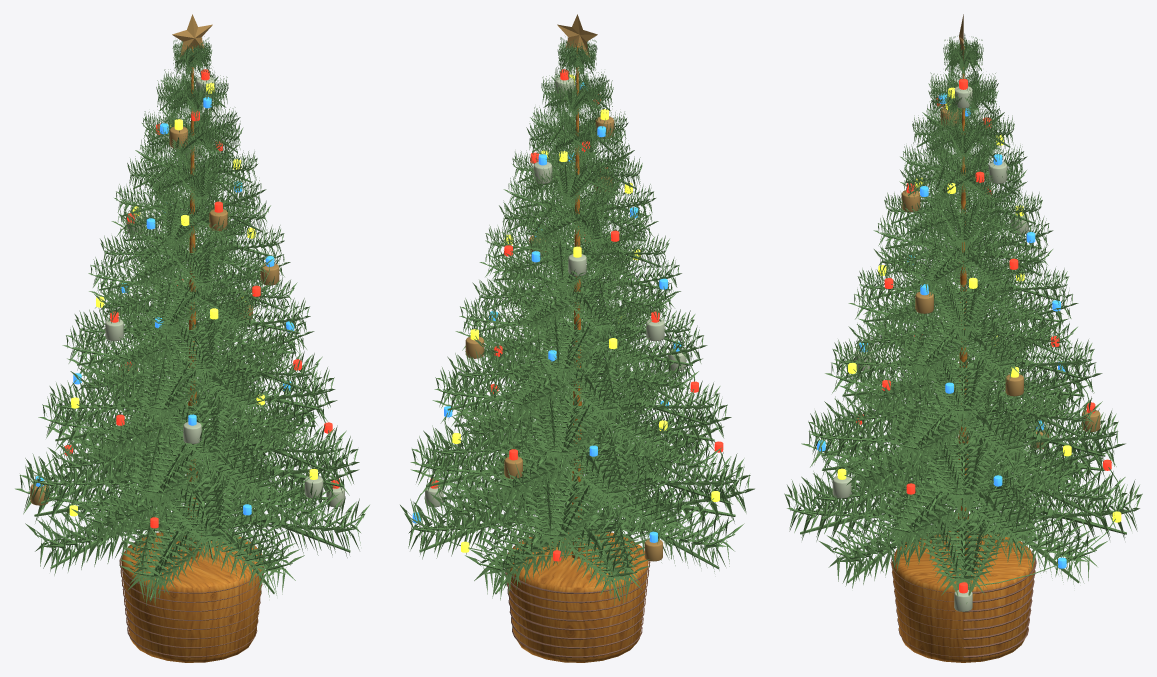
The model's file is christmas-slim-tree.glb.
The picture shows the model from 3 angles, left to right: view 1: azimuth 30°, elevation 25°; view 2: azimuth 150°, elevation 25°; view 3: azimuth 270°, elevation 25°; orthographic projection.
Parts seen in each view (by area): view 1: christmas-slim-tree, linked_bough_0_5, linked_bough_0_6, linked_bough_1_4, linked_bough_1_5, linked_bough_0_4, linked_bough_2_5, linked_bough_0_7, linked_bough_2_6, linked_bough_1_6, linked_bough_2_4, linked_bough_1_3 (+60 smaller); view 2: christmas-slim-tree, linked_bough_0_2, linked_bough_0_3, linked_bough_1_2, linked_bough_1_3, linked_bough_1_1, linked_bough_0_1, linked_bough_0_4, linked_bough_2_3, linked_bough_2_2, linked_bough_3_1, linked_bough_2_4 (+60 smaller); view 3: christmas-slim-tree, linked_bough_0_7, linked_bough_0_0, linked_bough_1_7, linked_bough_1_0, linked_bough_0_1, linked_bough_2_7, linked_bough_2_0, linked_bough_1_1, linked_bough_3_7, linked_bough_2_1, linked_bough_3_0 (+60 smaller).
Part boxes in pixels (bbox=[...]): christmas-slim-tree: bbox=[30, 14, 344, 662]; linked_bough_0_5: bbox=[119, 505, 237, 605]; linked_bough_0_6: bbox=[164, 497, 304, 597]; linked_bough_1_4: bbox=[71, 460, 210, 552]; linked_bough_1_5: bbox=[151, 468, 250, 563]; linked_bough_0_4: bbox=[25, 485, 185, 575]; linked_bough_2_5: bbox=[129, 426, 231, 517]; linked_bough_0_7: bbox=[208, 484, 369, 557]; linked_bough_2_6: bbox=[167, 421, 290, 512]; linked_bough_1_6: bbox=[191, 450, 338, 535]; linked_bough_2_4: bbox=[47, 413, 185, 492]; linked_bough_1_3: bbox=[25, 445, 187, 509]; christmas-slim-tree: bbox=[412, 14, 724, 662]; linked_bough_0_2: bbox=[465, 501, 605, 600]; linked_bough_0_3: bbox=[532, 503, 649, 605]; linked_bough_1_2: bbox=[523, 468, 625, 563]; linked_bough_1_3: bbox=[559, 453, 698, 549]; linked_bough_1_1: bbox=[431, 455, 578, 540]; linked_bough_0_1: bbox=[400, 483, 563, 559]; linked_bough_0_4: bbox=[585, 485, 744, 571]; linked_bough_2_3: bbox=[538, 428, 640, 516]; linked_bough_2_2: bbox=[479, 423, 602, 512]; linked_bough_3_1: bbox=[451, 381, 578, 455]; linked_bough_2_4: bbox=[584, 413, 722, 489]; christmas-slim-tree: bbox=[817, 14, 1121, 662]; linked_bough_0_7: bbox=[819, 493, 974, 588]; linked_bough_0_0: bbox=[909, 508, 1017, 603]; linked_bough_1_7: bbox=[876, 463, 994, 558]; linked_bough_1_0: bbox=[928, 459, 1050, 557]; linked_bough_0_1: bbox=[952, 491, 1107, 584]; linked_bough_2_7: bbox=[838, 422, 972, 503]; linked_bough_2_0: bbox=[914, 433, 1011, 521]; linked_bough_1_1: bbox=[976, 449, 1125, 523]; linked_bough_3_7: bbox=[889, 384, 992, 472]; linked_bough_2_1: bbox=[954, 414, 1088, 503]; linked_bough_3_0: bbox=[934, 384, 1037, 471].
Bounding box in the file's own units: 0.65 × 1.25 × 0.65.
8 materials, 1 textured.
